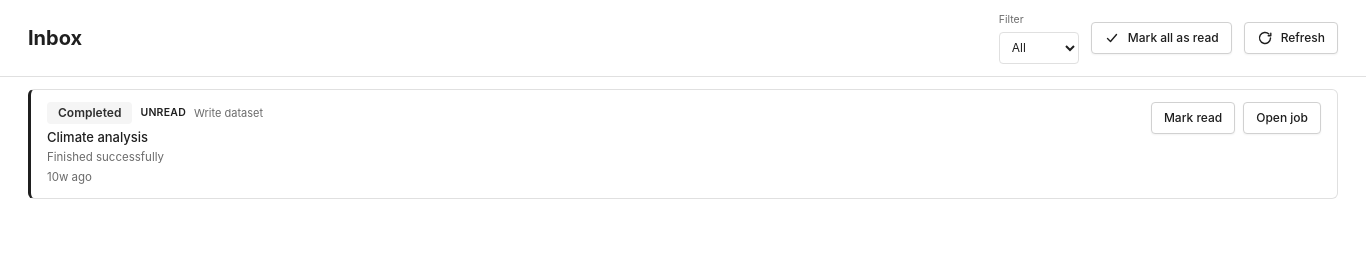
Test case: InboxView › keeps rows unread and refreshes server truth when mark-all fails
Expected: the text "Climate analysis" is shown, [47, 129, 148, 145]
Click the button "Mark all as read" at coordinates (1161, 38), box [1091, 22, 1232, 54]
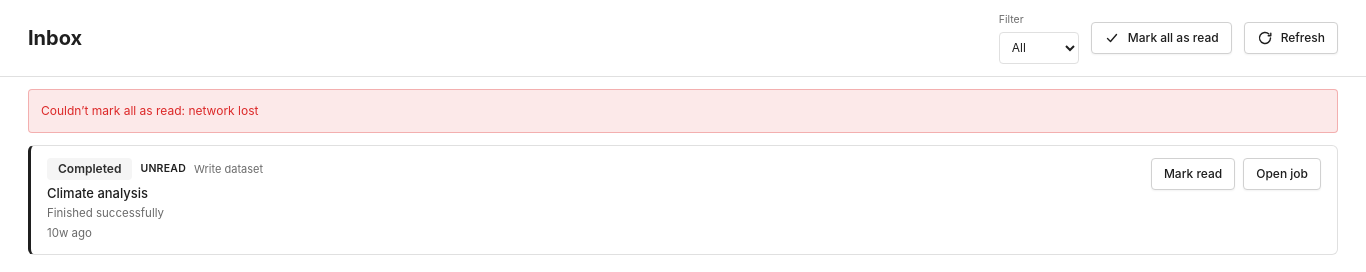
Expected: the text "Unread" is shown, [140, 161, 186, 177]
Expected: the message reads "Couldn’t mark all as read: network lost", [41, 103, 258, 118]
